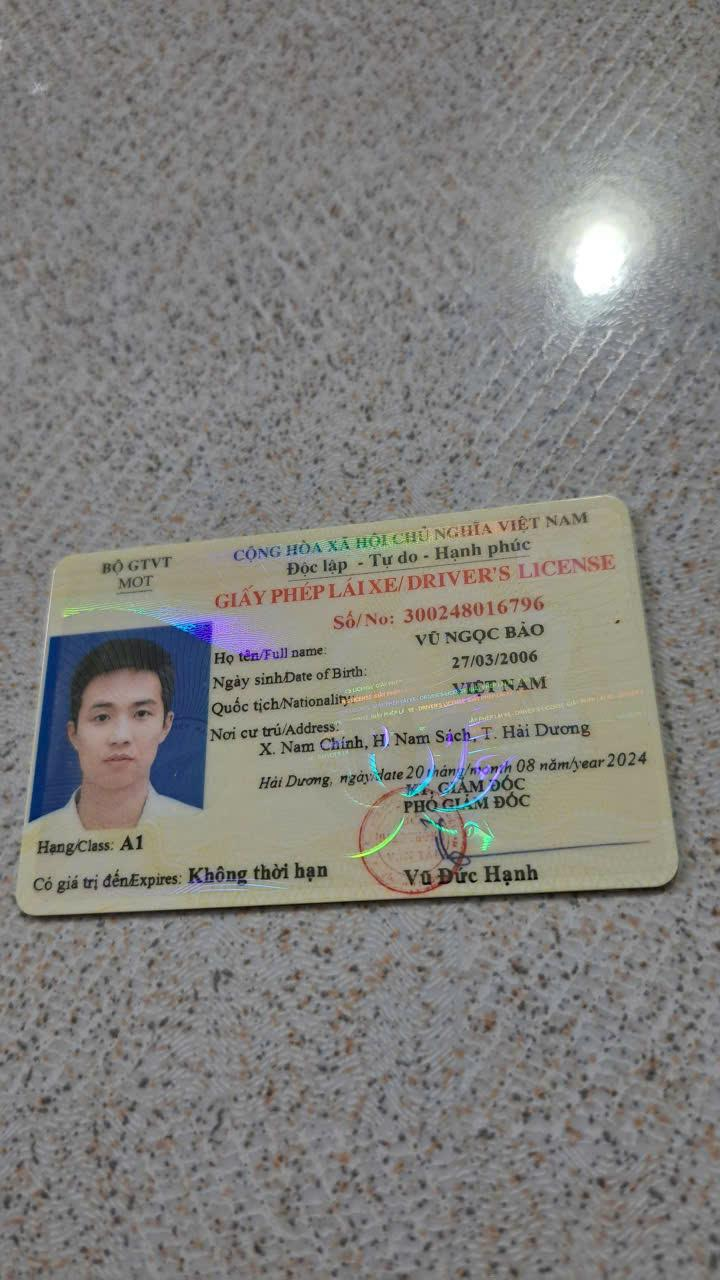gplx: (6, 487, 690, 925)
